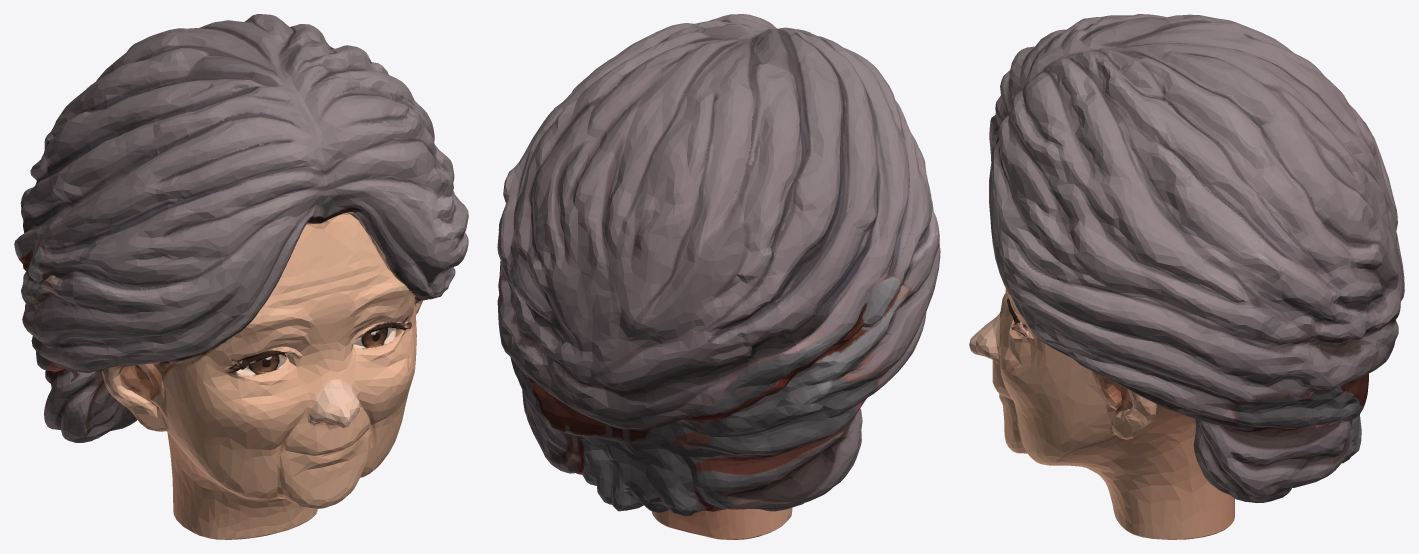
The model's file is side_incense_repaired_atlas.glb.
The picture shows the model from 3 angles, left to right: view 1: azimuth 30°, elevation 25°; view 2: azimuth 150°, elevation 25°; view 3: azimuth 270°, elevation 25°; orthographic projection. The views are drawn at different scales.
Visible parts, largest first — view 1: temp_mesh.ply; view 2: temp_mesh.ply; view 3: temp_mesh.ply.
Boxes of the visible parts, <box> form: temp_mesh.ply: <box>14,14,468,539</box>; temp_mesh.ply: <box>497,14,940,539</box>; temp_mesh.ply: <box>969,14,1404,539</box>.
Bounding box in the file's own units: 1.72 × 1.97 × 1.64.
Materials: 1 (1 with a texture image).
